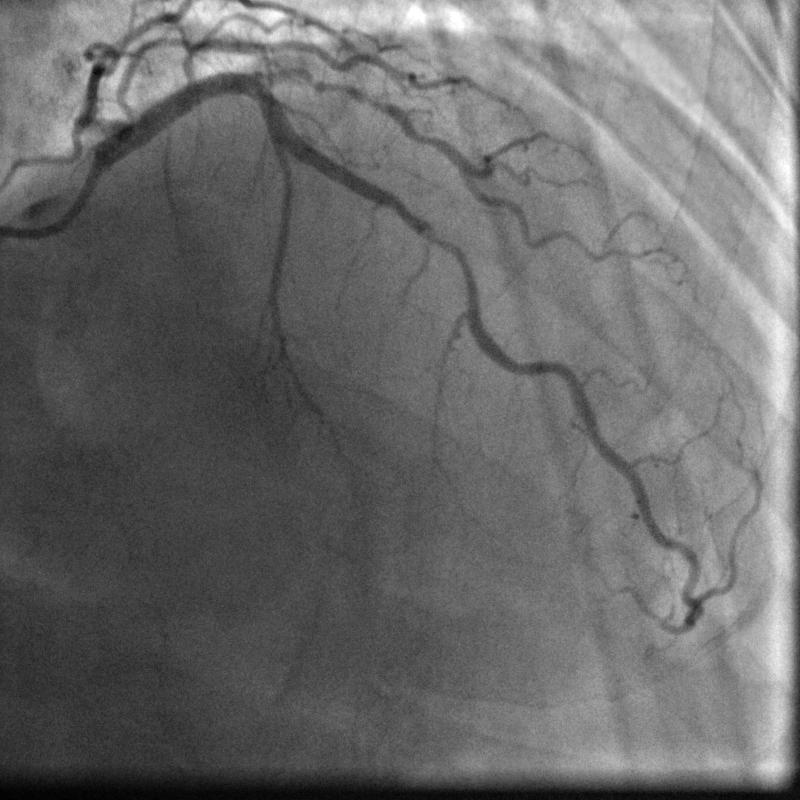Stenosis: (414, 216, 477, 292)
